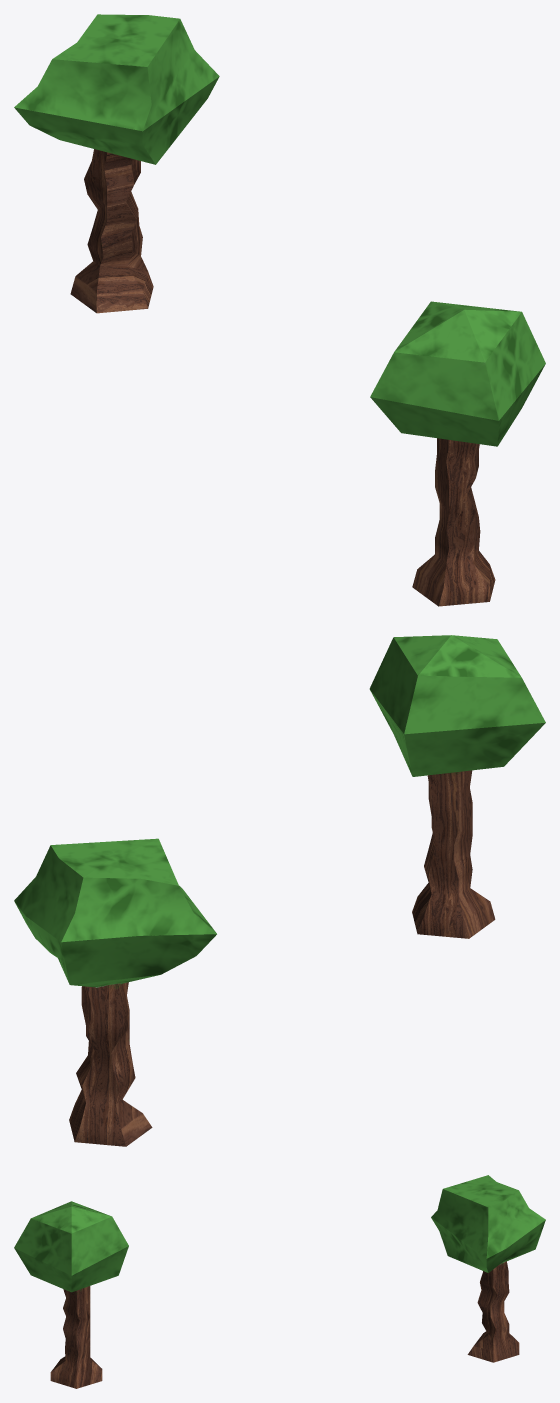
Rendered from Trees.fbx.
The picture shows the model from 3 angles, top to bottom: view 1: azimuth 30°, elevation 25°; view 2: azimuth 150°, elevation 25°; view 3: azimuth 270°, elevation 25°; orthographic projection. The views are drawn at different scales.
Parts seen in each view (by area): view 1: Tree1, Tree; view 2: Tree1, Tree; view 3: Tree, Tree1.
Part boxes in pixels (left/top/right/bottom): Tree1: left=14, top=14, right=219, bottom=313; Tree: left=370, top=301, right=545, bottom=606; Tree1: left=14, top=838, right=216, bottom=1146; Tree: left=369, top=635, right=545, bottom=938; Tree: left=14, top=1201, right=128, bottom=1388; Tree1: left=431, top=1175, right=545, bottom=1362.
Bounding box in the file's own units: 3.88 × 5.6 × 14.36.
1 material, 1 textured.
